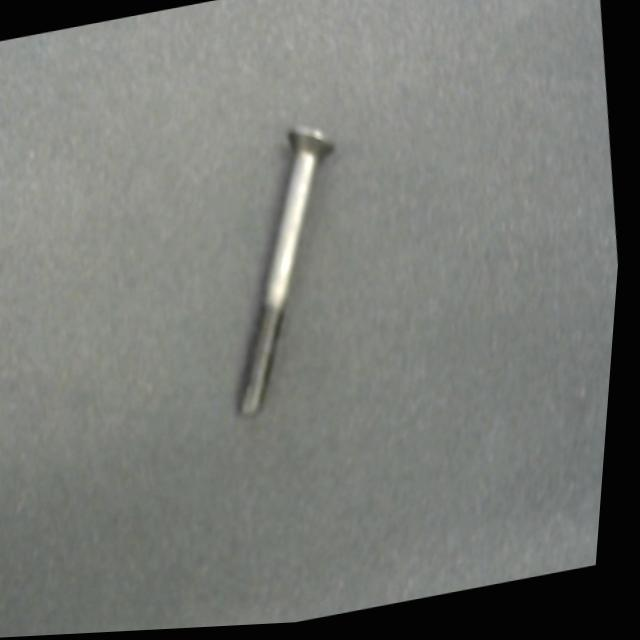FlatHeadSocketScrew: (203, 116, 377, 426)
